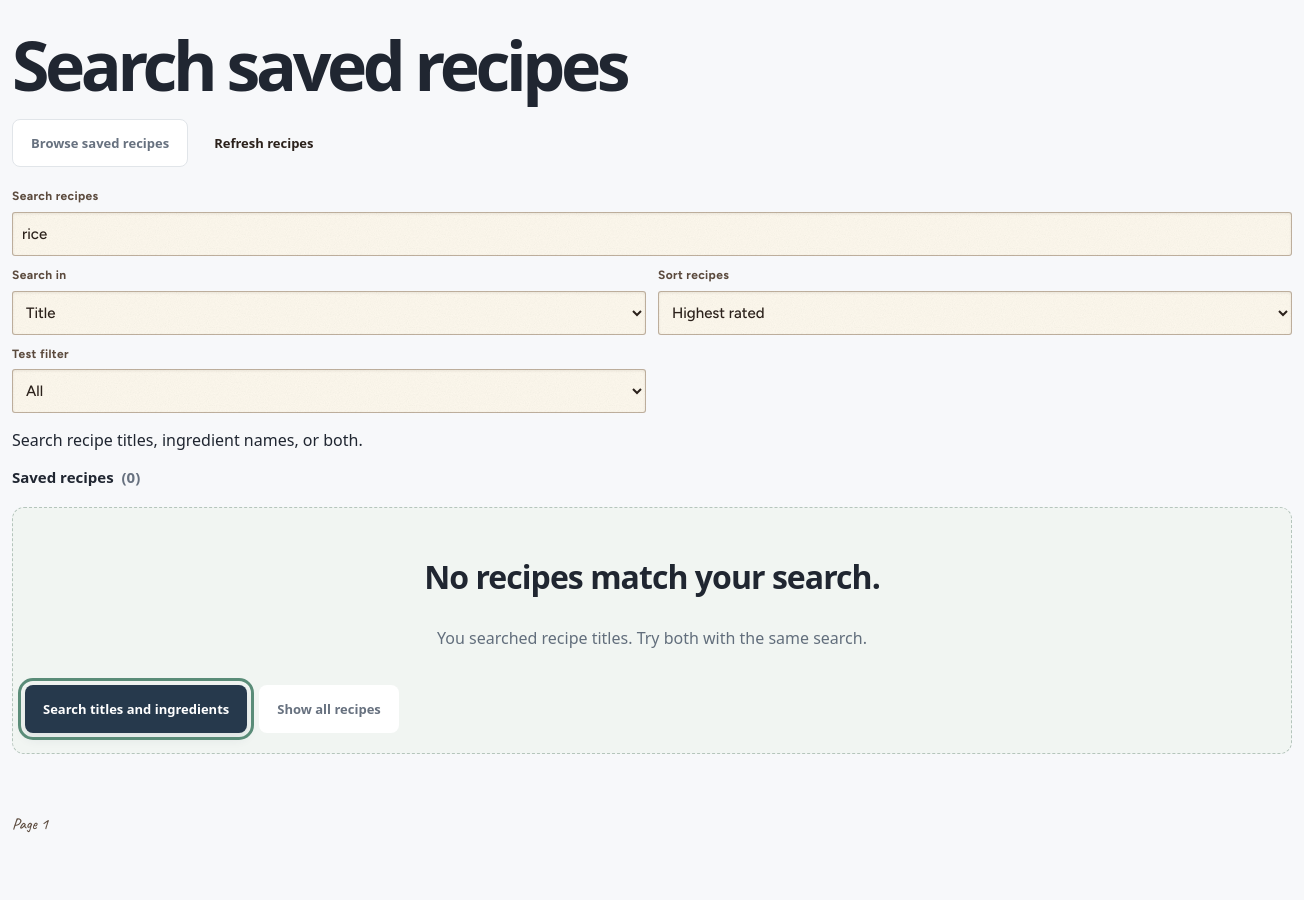
Scenario: broadens an empty title search without clearing the query or sort
The image size is (1304, 900).
Click the button "Search titles and ingredients" at (136, 709), box [25,685,247,733]
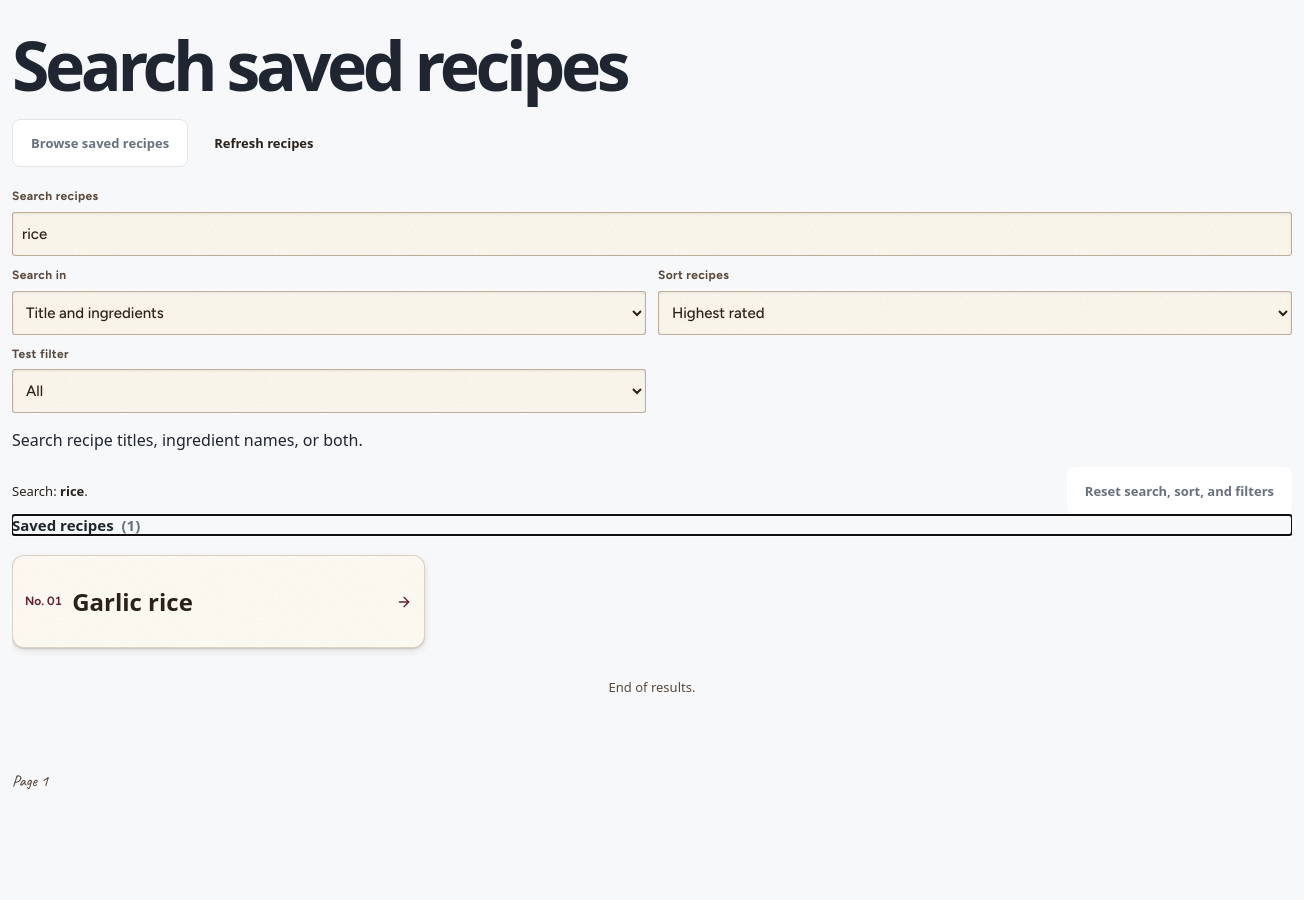
Expected: the heading "Garlic rice" is shown, [72,585,193,618]
